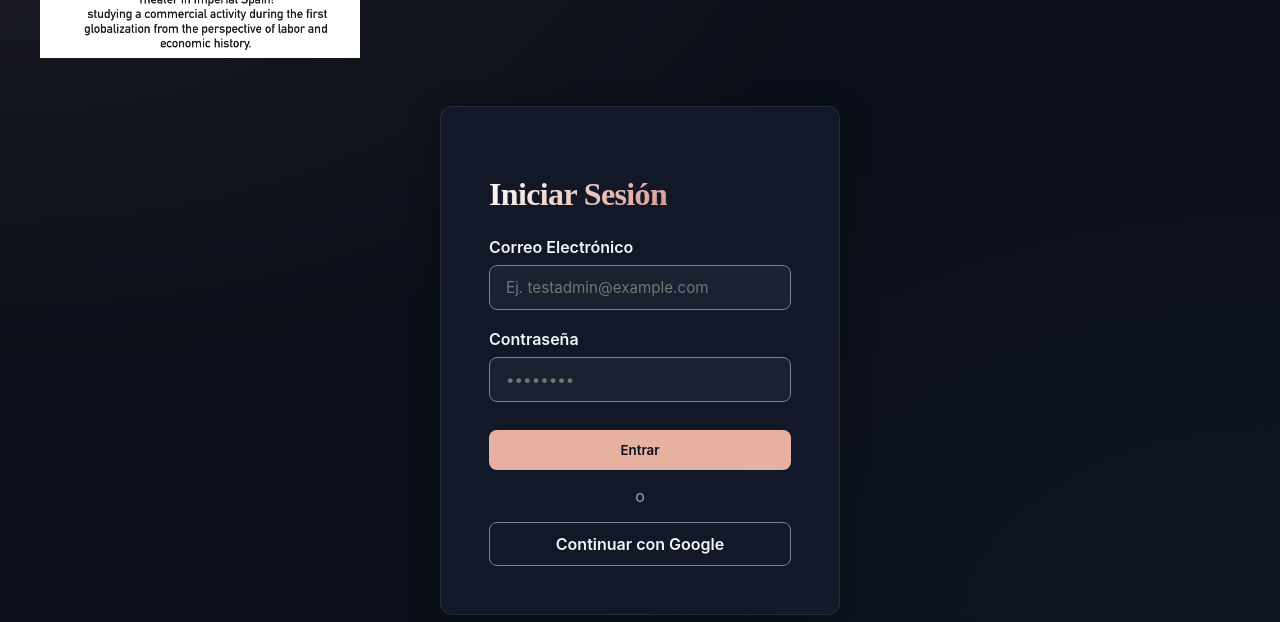
Login con Google › popup cerrado: muestra su texto y un segundo clic limpia el alert
This screenshot has width=1280, height=622.
(page scrolled)
Click the button "Continuar con Google". click: coordinates (640, 544)
box: [489,522,791,566]
(page scrolled)
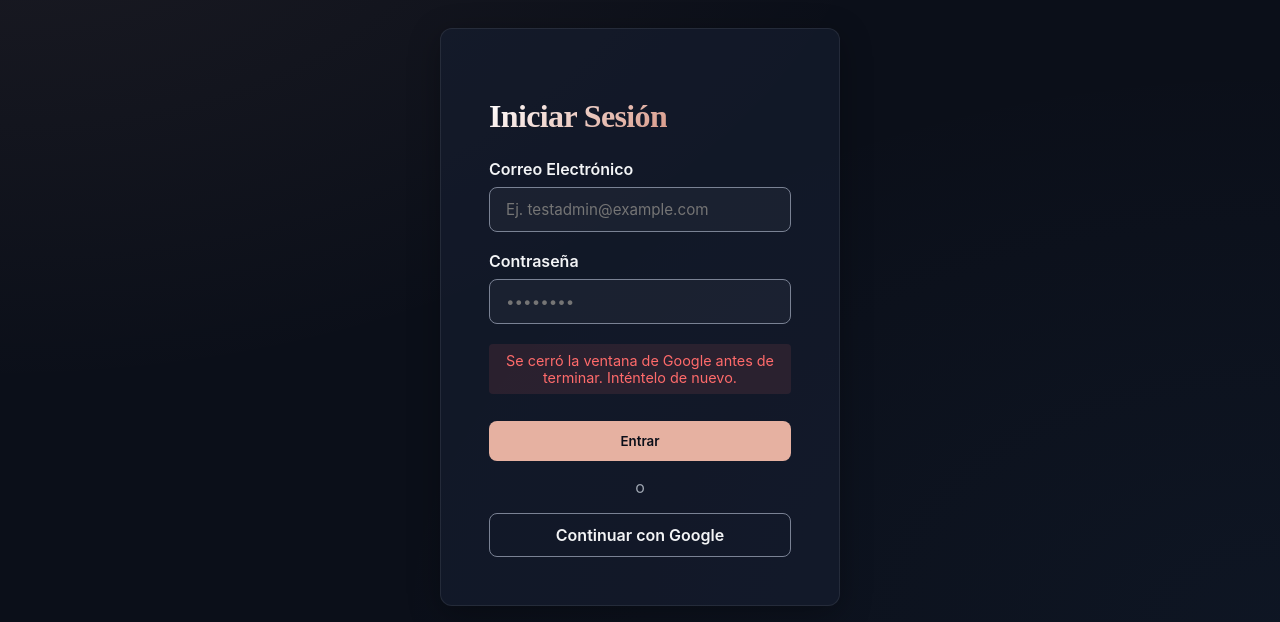
Now the message reads "Se cerró la ventana de Google antes de terminar. Inténtelo de nuevo.", box [506,352,774,386]
Click the button "Continuar con Google". click: coordinates (640, 535)
box: [489,513,791,557]
(page scrolled)
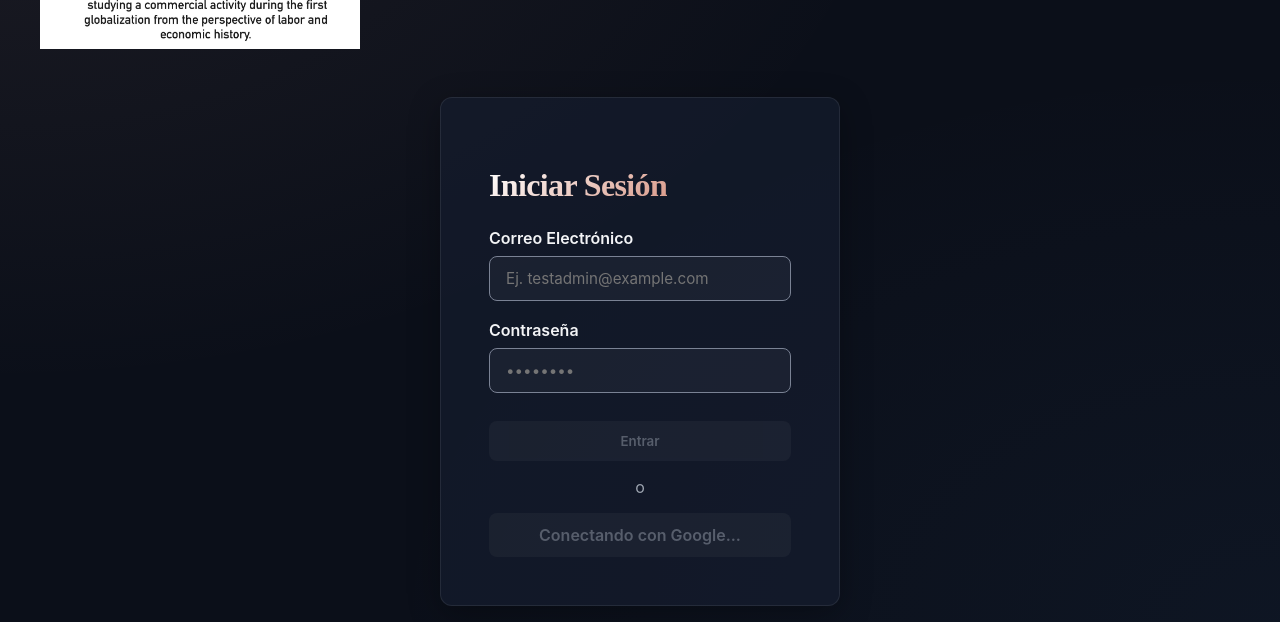
Now the message "Se cerró la ventana de Google antes de terminar. Inténtelo de nuevo." is gone
